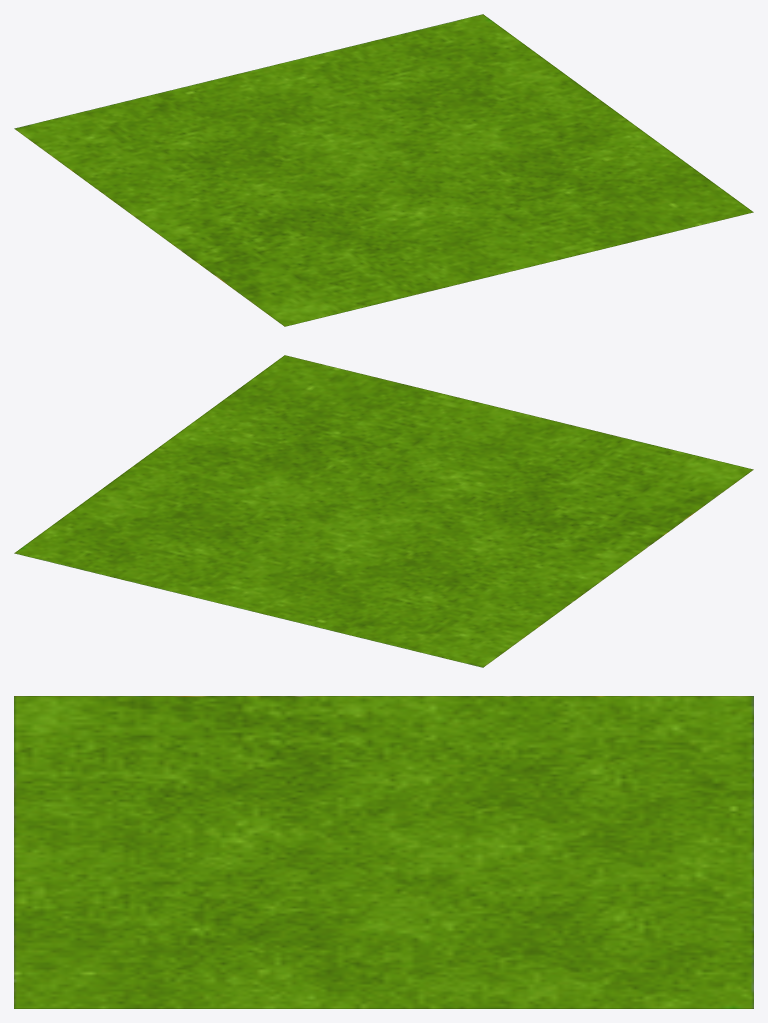
File: ForestTile.obj
The picture shows the model from 3 angles, top to bottom: view 1: azimuth 30°, elevation 25°; view 2: azimuth 150°, elevation 25°; view 3: azimuth 270°, elevation 25°; orthographic projection. The views are drawn at different scales.
Parts seen in each view (by area): view 1: Grid_Grid.003; view 2: Grid_Grid.003; view 3: Grid_Grid.003.
Boxes of the visible parts, box(x1,y1,x2,y2) form: Grid_Grid.003: box(14, 14, 753, 326); Grid_Grid.003: box(14, 355, 753, 667); Grid_Grid.003: box(14, 696, 753, 1008).
Size of the model in its own units: 1 by 0 by 1.
Materials: 1 (1 with a texture image).
